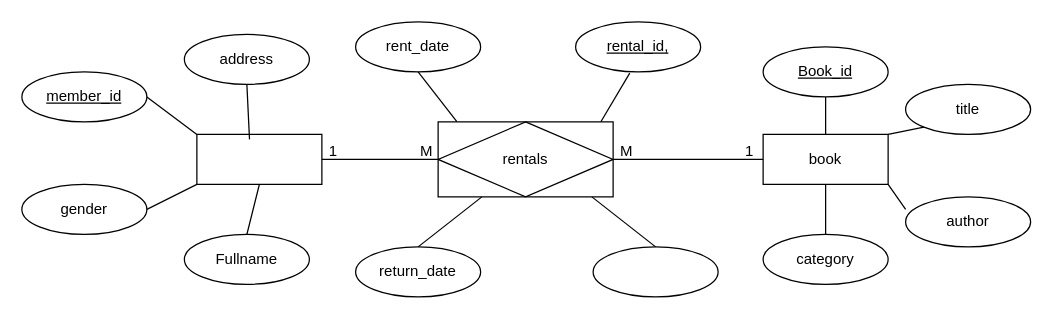
This 1053x319 diagram has some shape labels left out. The shapes that lost their labels are listed below. From the top down, each one's centre as x and y in pixels, then its label:
(259,158): member
(655,271): daily_rate
